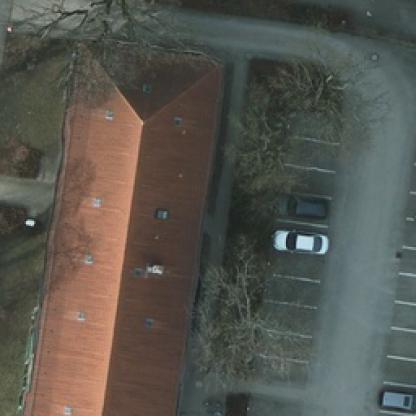car: (270, 188, 330, 222), (270, 231, 330, 256), (374, 386, 412, 414)
